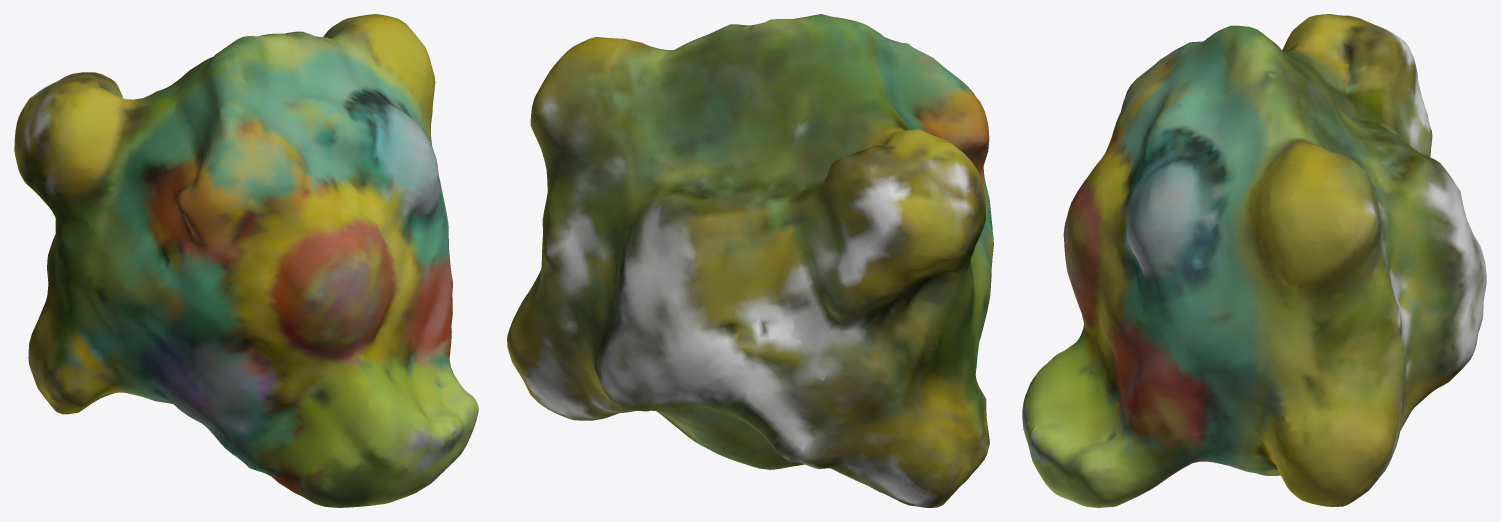
File: turtle.glb
3 renders of one model, left to right at view 1: azimuth 30°, elevation 25°; view 2: azimuth 150°, elevation 25°; view 3: azimuth 270°, elevation 25°, orthographic. The views are drawn at different scales.
Size of the model in its own units: 0.9999 by 0.984 by 0.9555.
